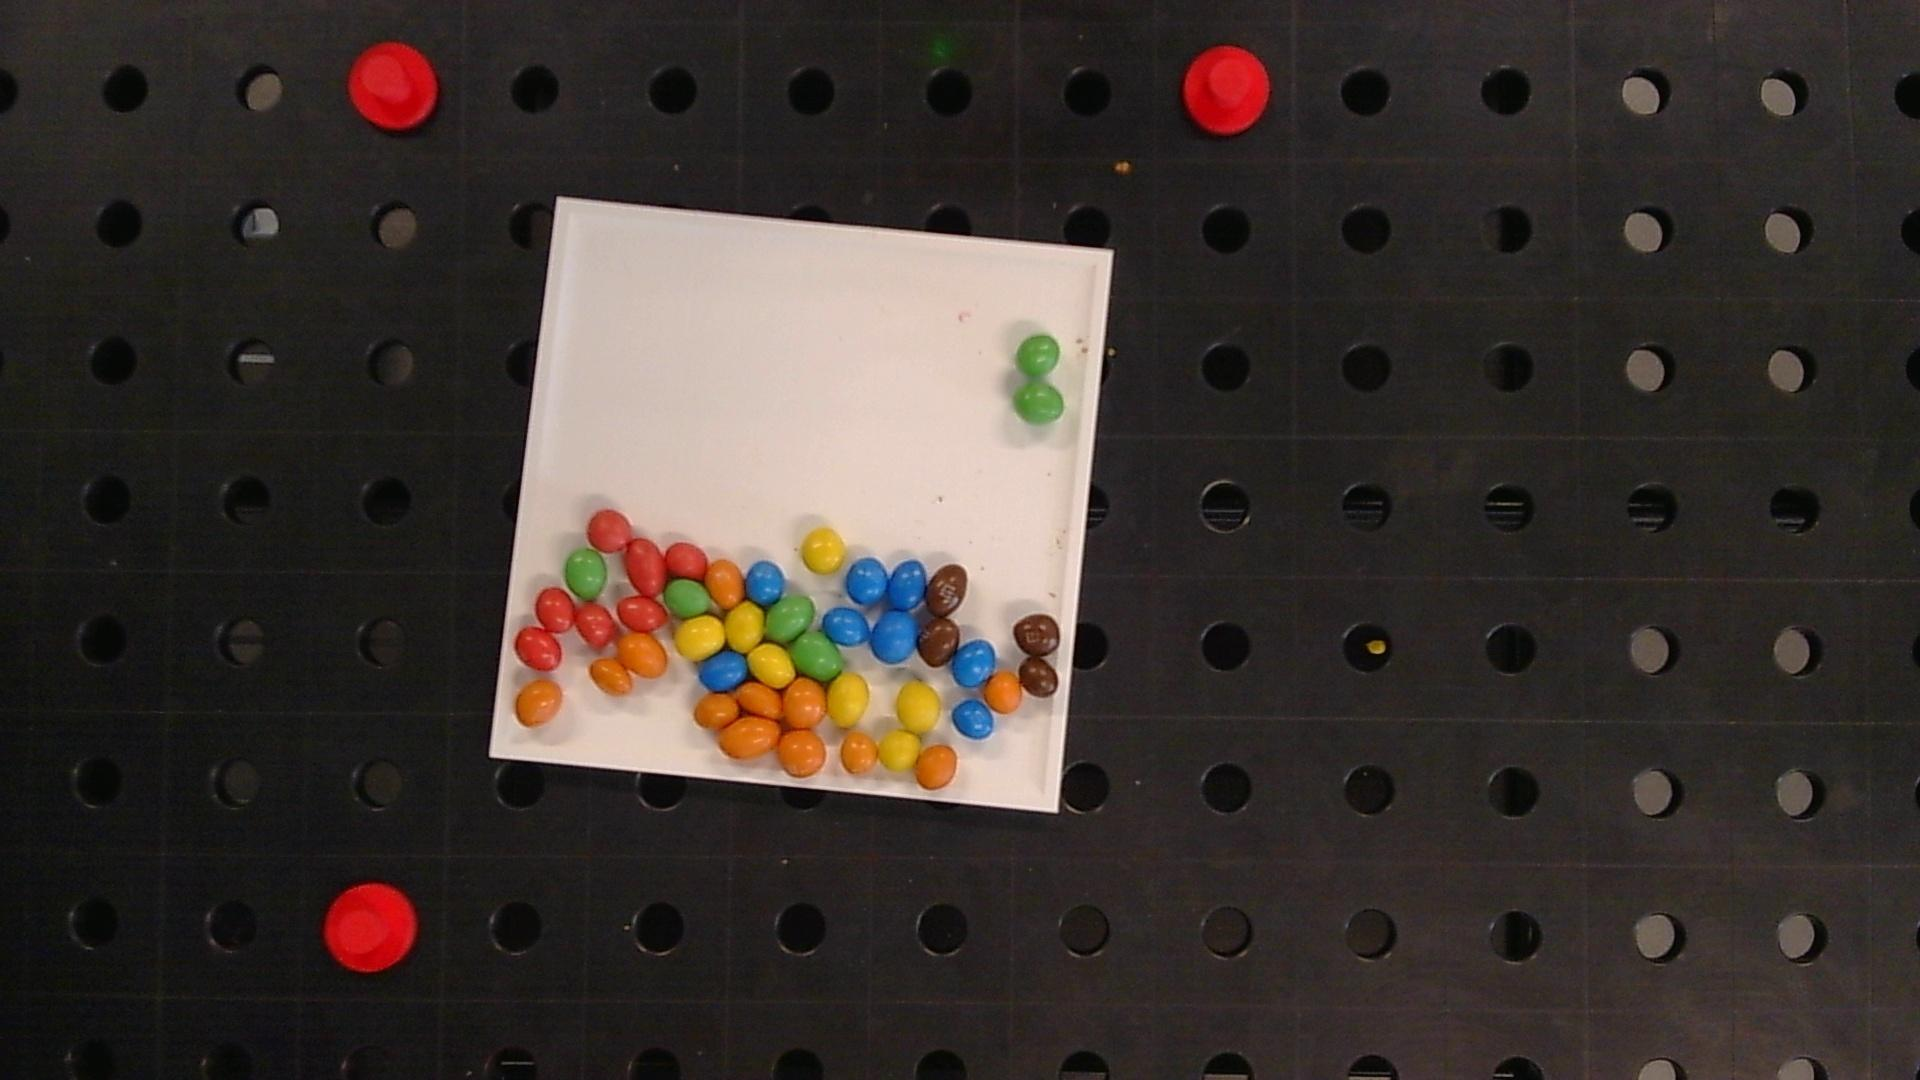blue: (870, 612, 919, 663), (952, 640, 996, 687), (847, 558, 887, 605), (889, 559, 926, 611), (700, 651, 748, 691), (823, 608, 870, 646), (952, 699, 994, 738), (745, 560, 785, 603)
brown: (926, 563, 967, 617), (1013, 613, 1060, 657), (919, 620, 960, 666), (1018, 658, 1059, 698)
green: (793, 633, 841, 679), (564, 547, 607, 600), (1013, 382, 1065, 425), (765, 596, 814, 641), (1015, 335, 1062, 377), (666, 579, 711, 616)
orange: (719, 716, 782, 758), (777, 731, 827, 777), (617, 633, 667, 678), (516, 680, 562, 725), (783, 679, 825, 727), (915, 745, 956, 790), (707, 559, 744, 608), (736, 682, 782, 717), (984, 671, 1022, 713), (589, 658, 632, 695), (695, 694, 738, 729), (840, 735, 878, 774)
red: (625, 538, 666, 595), (514, 628, 562, 670), (587, 509, 632, 551), (574, 603, 615, 646), (618, 596, 667, 630), (535, 588, 574, 630), (666, 542, 708, 579)
yellow: (895, 682, 942, 732), (675, 615, 724, 661), (828, 674, 868, 727), (802, 527, 845, 572), (750, 645, 795, 686), (727, 603, 764, 651), (878, 731, 920, 770)
